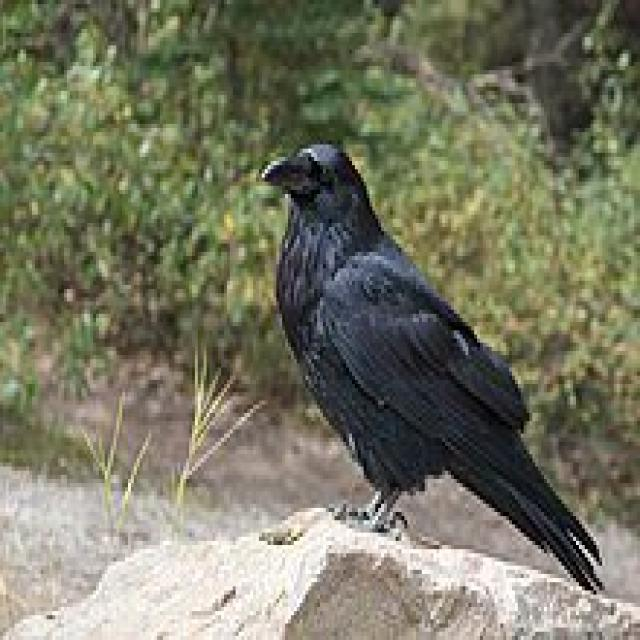crow: (262, 145, 599, 586)
